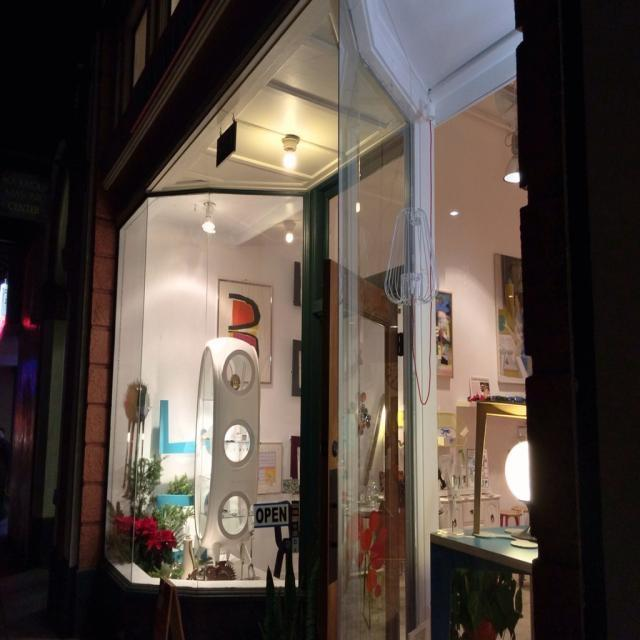door: (308, 115, 436, 640)
